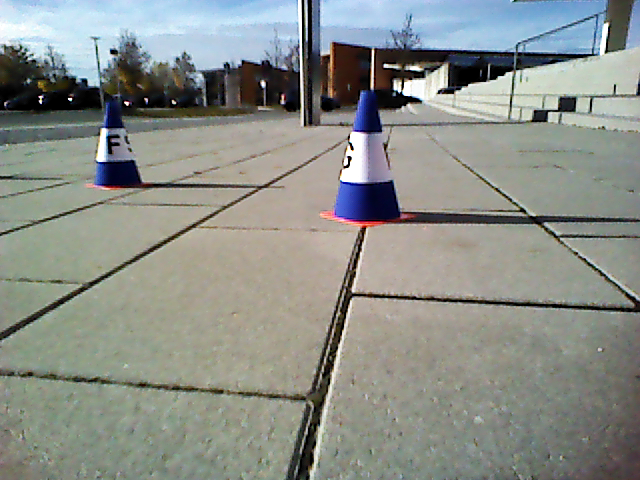bluecone: (335, 90, 396, 220), (95, 101, 137, 186)
